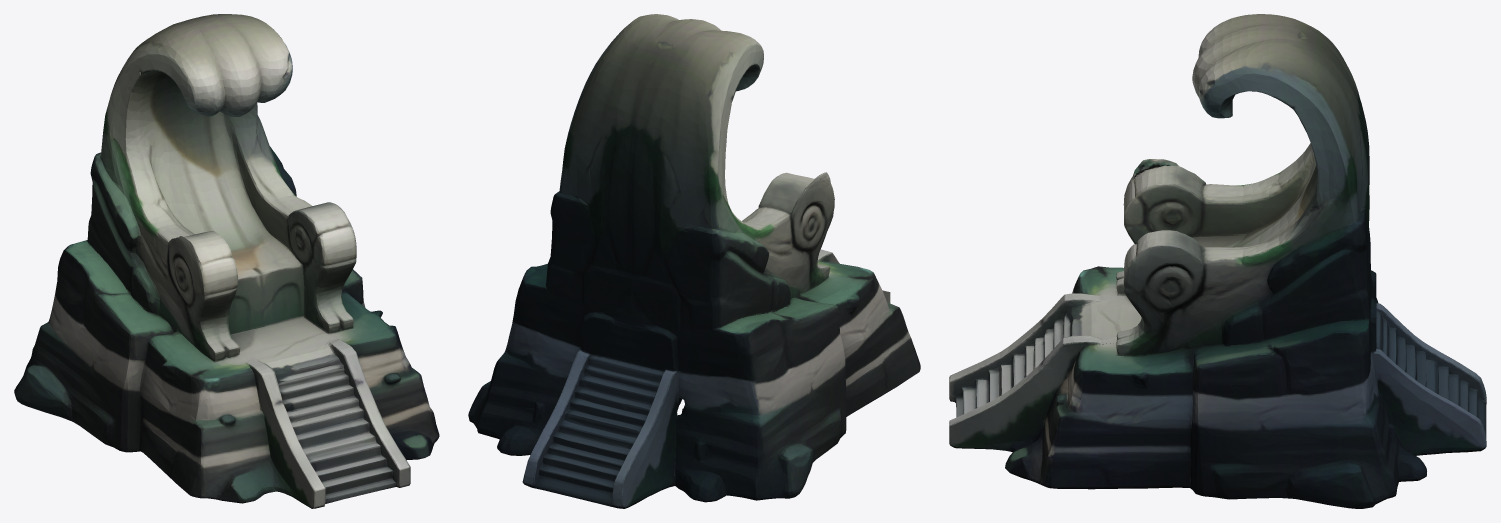
File: sea_throne.glb
The picture shows the model from 3 angles, left to right: view 1: azimuth 30°, elevation 25°; view 2: azimuth 150°, elevation 25°; view 3: azimuth 270°, elevation 25°; orthographic projection. The views are drawn at different scales.
Visible parts, largest first — view 1: geometry_0; view 2: geometry_0; view 3: geometry_0.
Boxes of the visible parts, <box> form: geometry_0: <box>14,14,439,508</box>; geometry_0: <box>468,14,920,508</box>; geometry_0: <box>949,14,1486,508</box>.
Bounding box in the file's own units: 0.7086 × 0.8263 × 1.
Materials: 1 (1 with a texture image).
